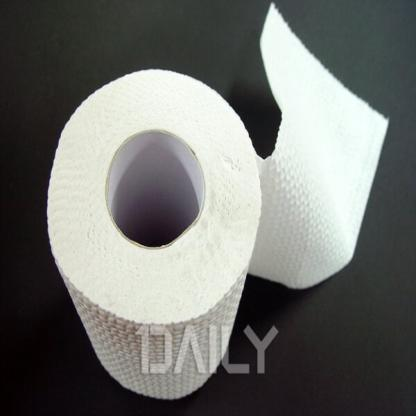tissue: (45, 5, 395, 403)
